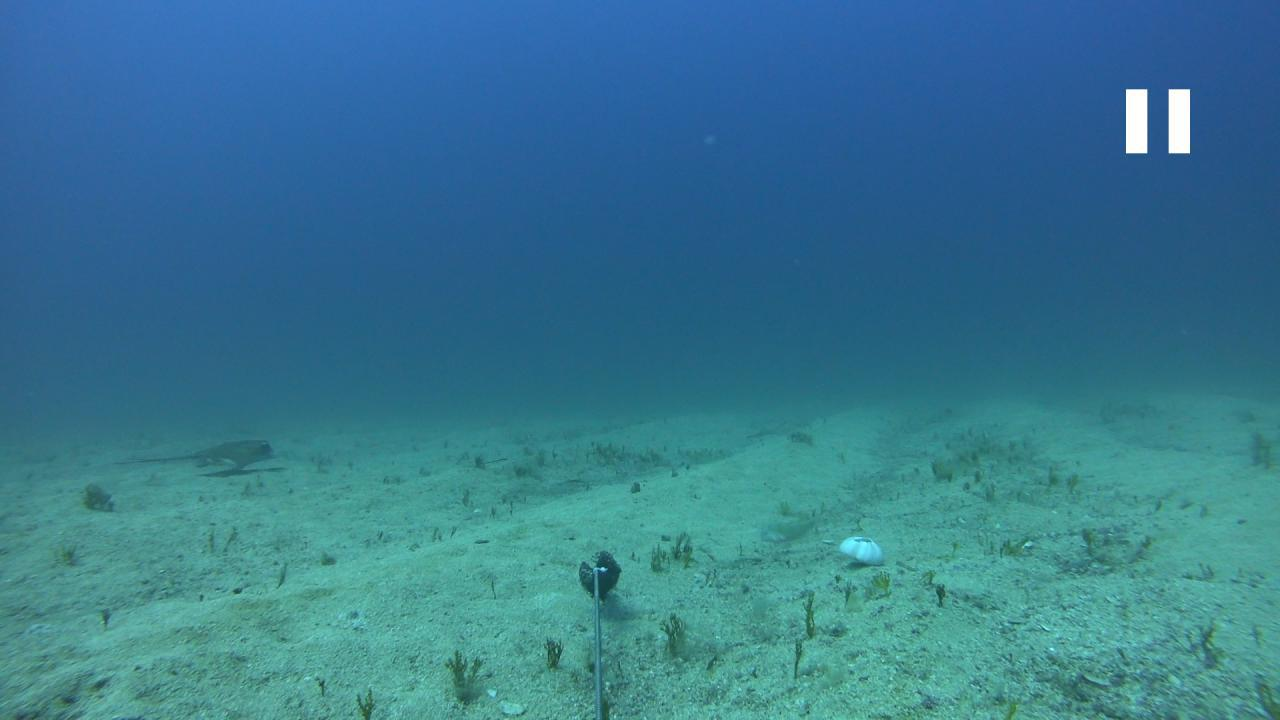dasyatis: (112, 440, 280, 471)
